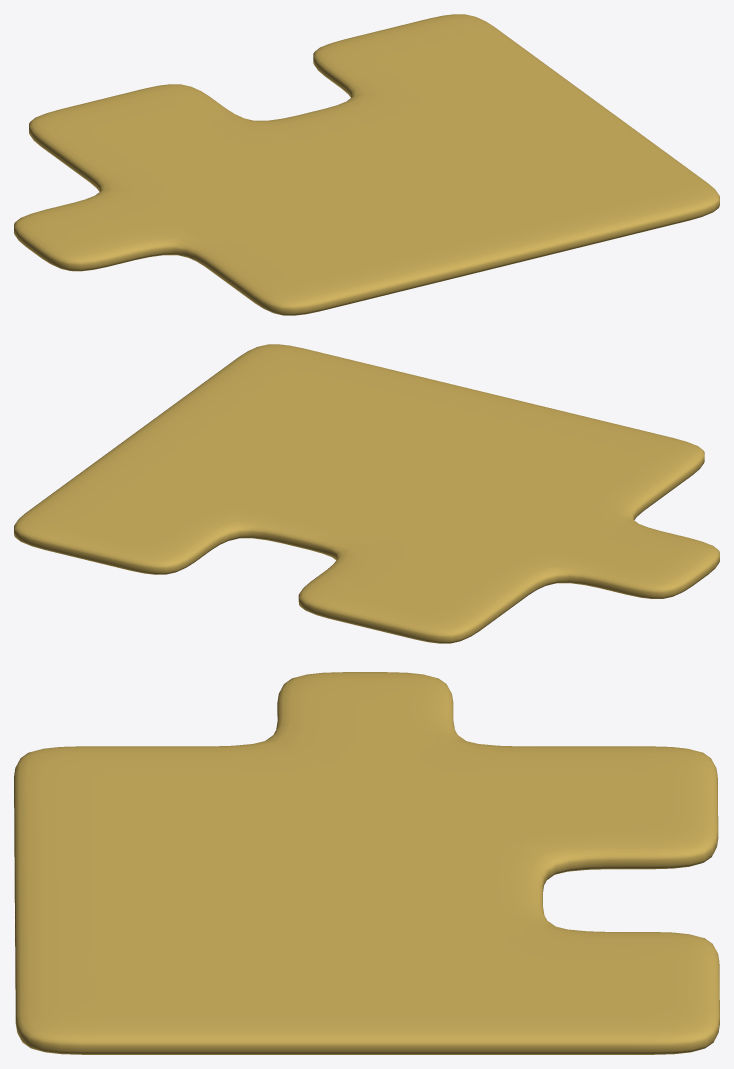
File: GoldenPuzzle-19-OOMF.fbx
The picture shows the model from 3 angles, top to bottom: view 1: azimuth 30°, elevation 25°; view 2: azimuth 150°, elevation 25°; view 3: azimuth 270°, elevation 25°; orthographic projection. The views are drawn at different scales.
Parts seen in each view (by area): view 1: Puzzle_019; view 2: Puzzle_019; view 3: Puzzle_019.
Part boxes in pixels (x1,y1,x2,y2): Puzzle_019: (14, 14, 719, 315); Puzzle_019: (14, 344, 719, 643); Puzzle_019: (14, 672, 719, 1054).
Size of the model in its own units: 0.3125 by 0.00924 by 0.2512.
